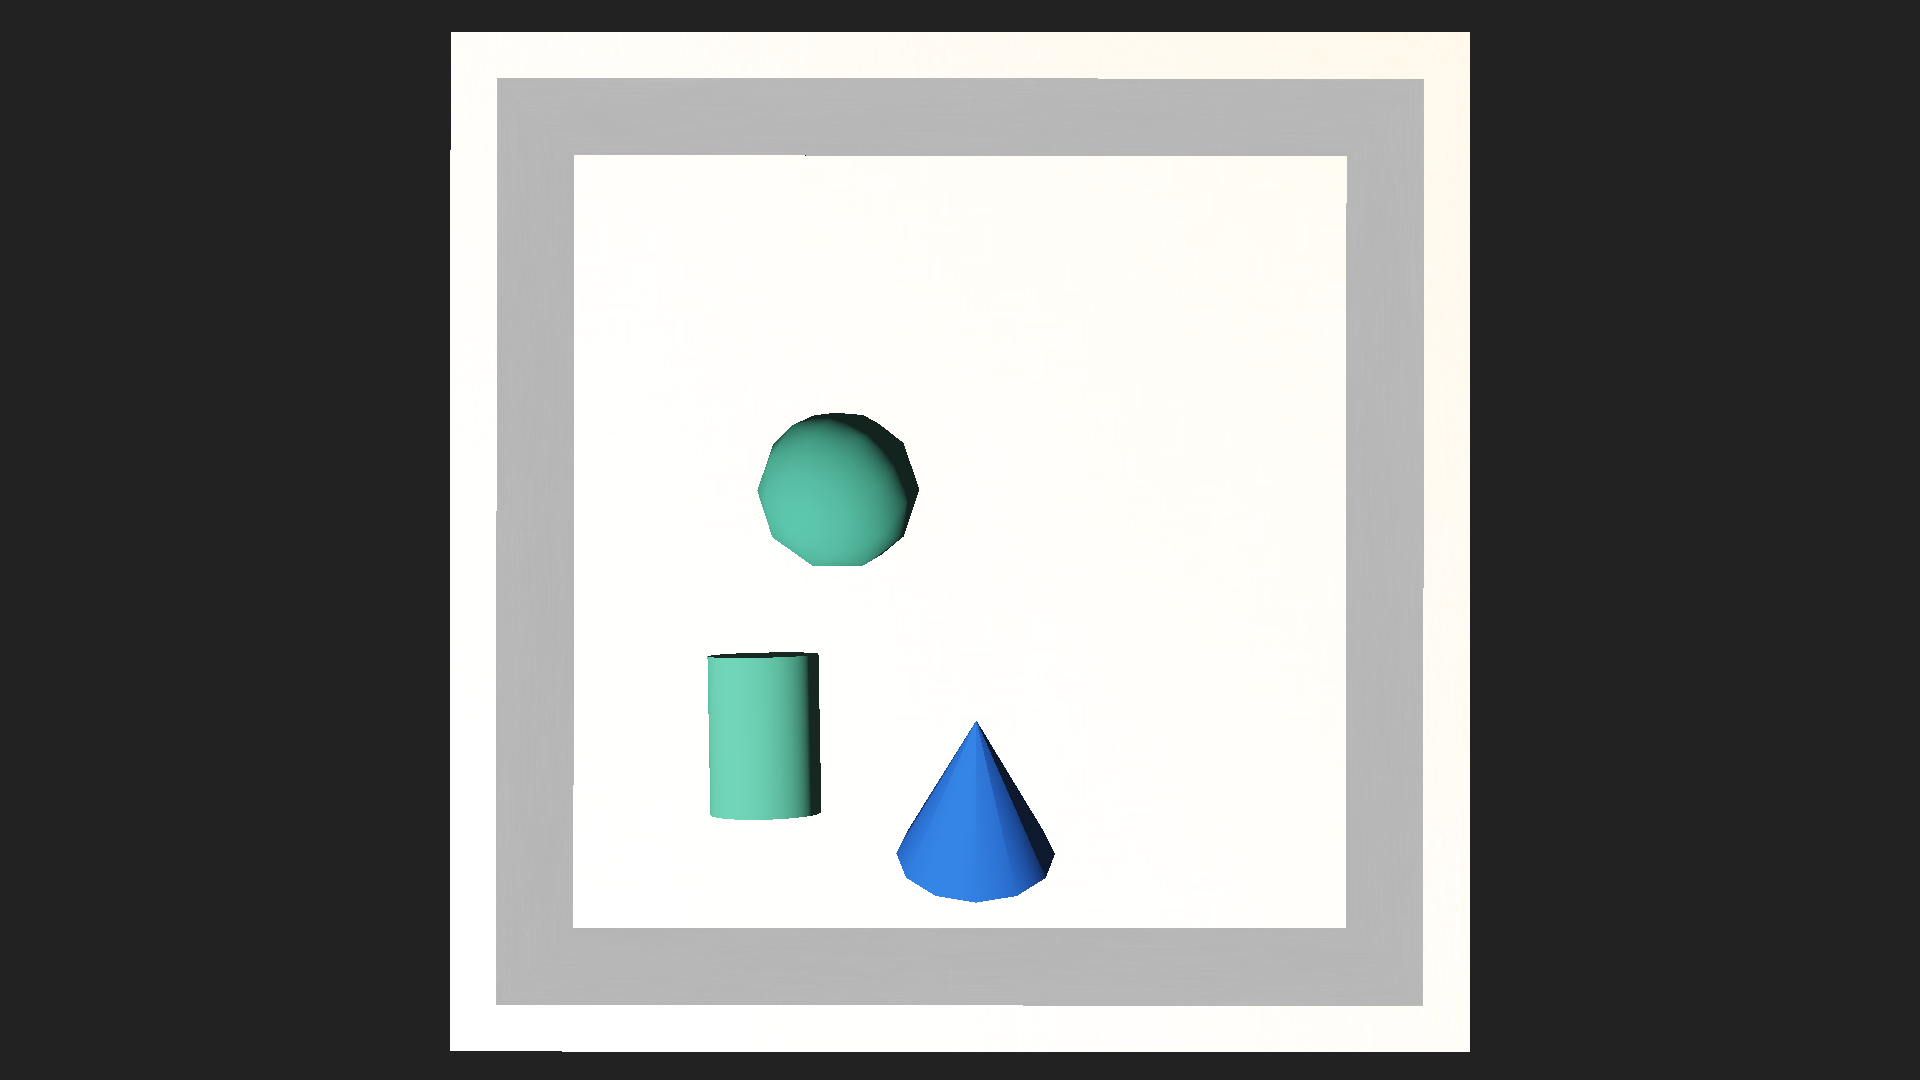cone: (702, 650, 824, 820)
cylinder: (899, 675, 1052, 909)
sphere: (756, 407, 918, 570)
